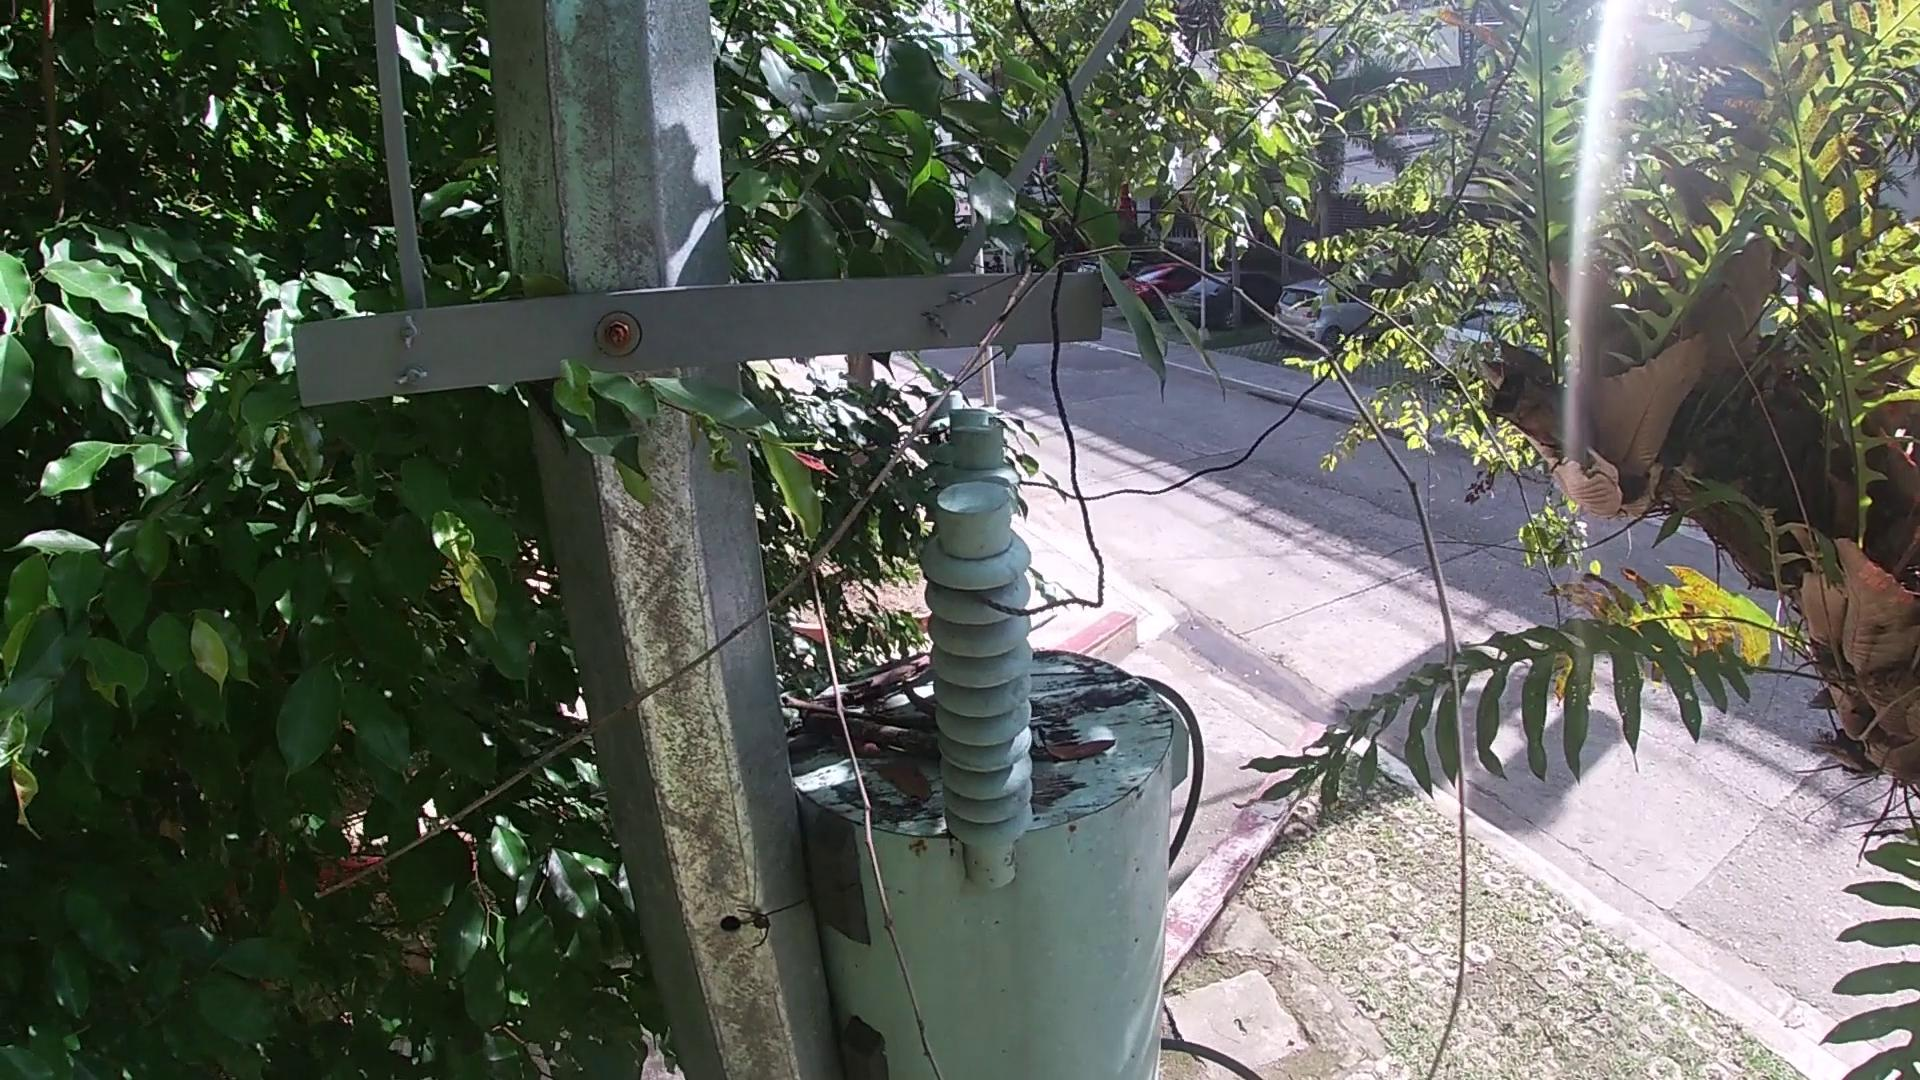leaf: (862, 752, 935, 804), (1036, 725, 1117, 767), (829, 729, 887, 761)
tree branch: (298, 200, 1484, 1077), (786, 700, 942, 757), (843, 651, 934, 709)
